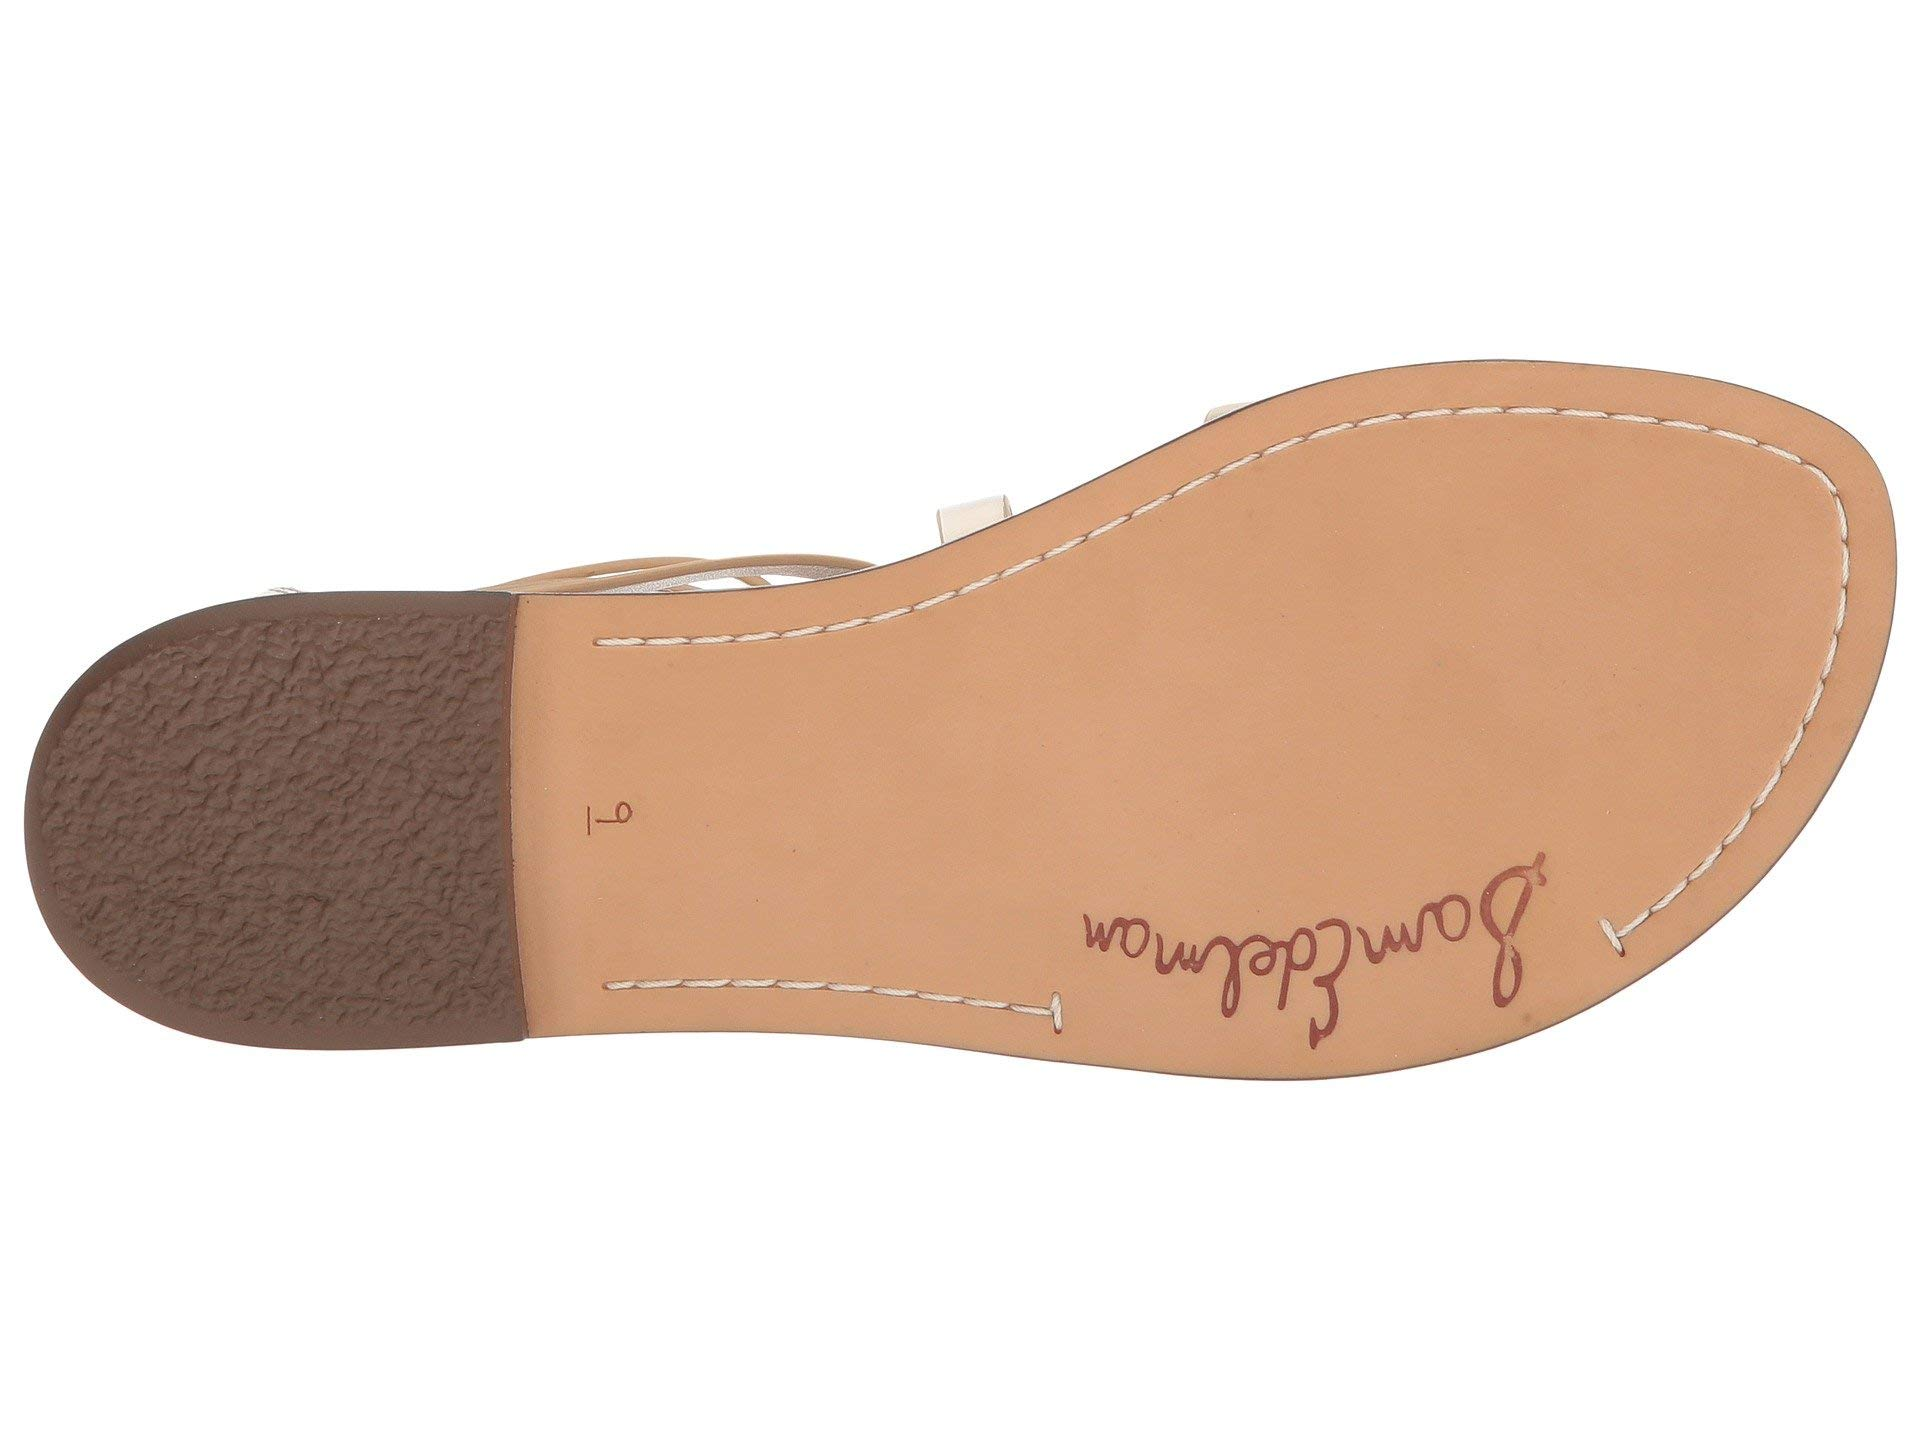circle: (1027, 800, 1595, 1057)
line: (1027, 800, 1595, 1057), (1695, 399, 1866, 830), (562, 750, 698, 877)
other: (160, 625, 423, 1001)
text: (1027, 800, 1595, 1057), (562, 750, 698, 877)
